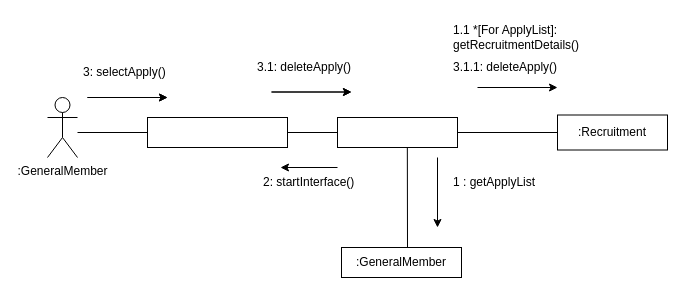
Image size: 685x295. Some labels were removed from this diagram. Each missing label, with the centre of its shape:
":deleteApplyInfor" belongs at point (397, 132).
":deleteApplyInforUI" belongs at point (217, 132).
